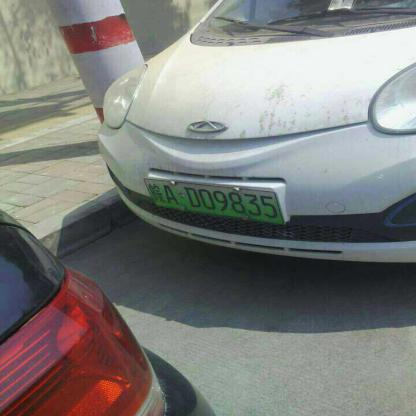lp: (142, 178, 285, 224)
